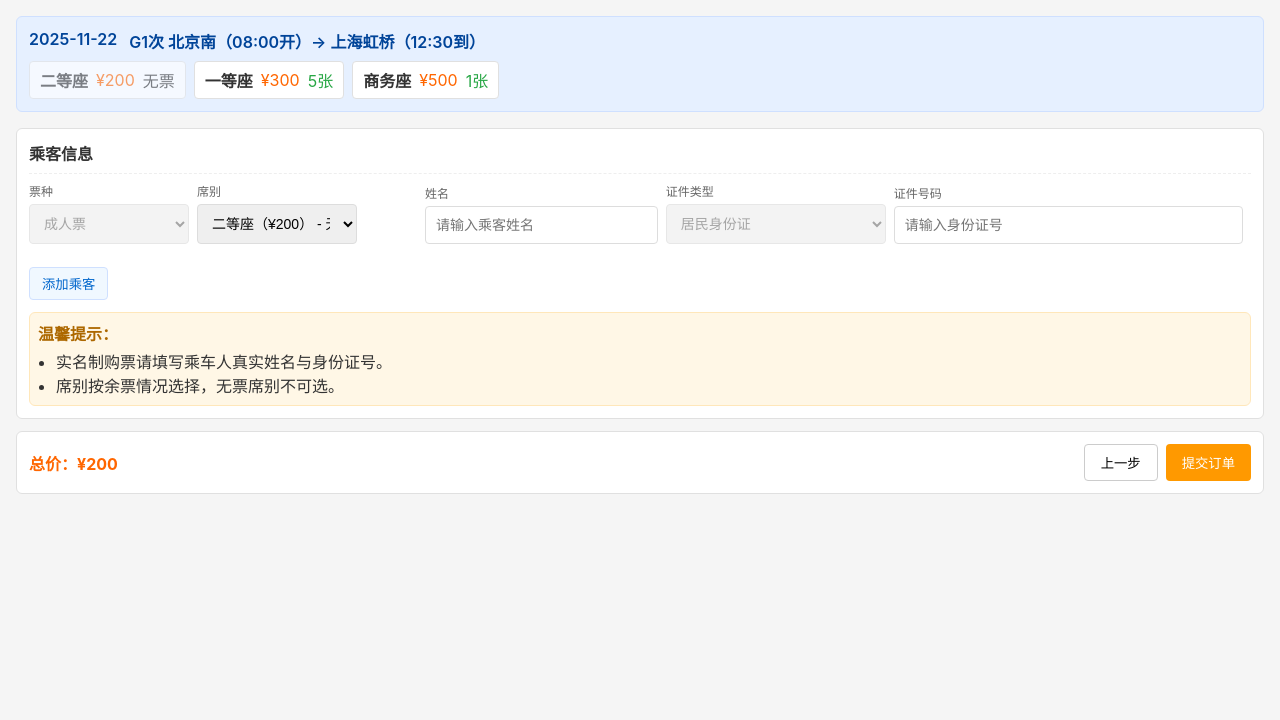
P002_Booking 组件测试 - 席别选择交互 › 切换席别后单价影响总价，余票为0的席别不可选
This screenshot has width=1280, height=720.
expect the text "总价：¥200" is shown: met, box [29, 450, 118, 474]
Select "一等座（¥300）" in the 2nd dropdown at point(277, 224), box [197, 204, 357, 244]
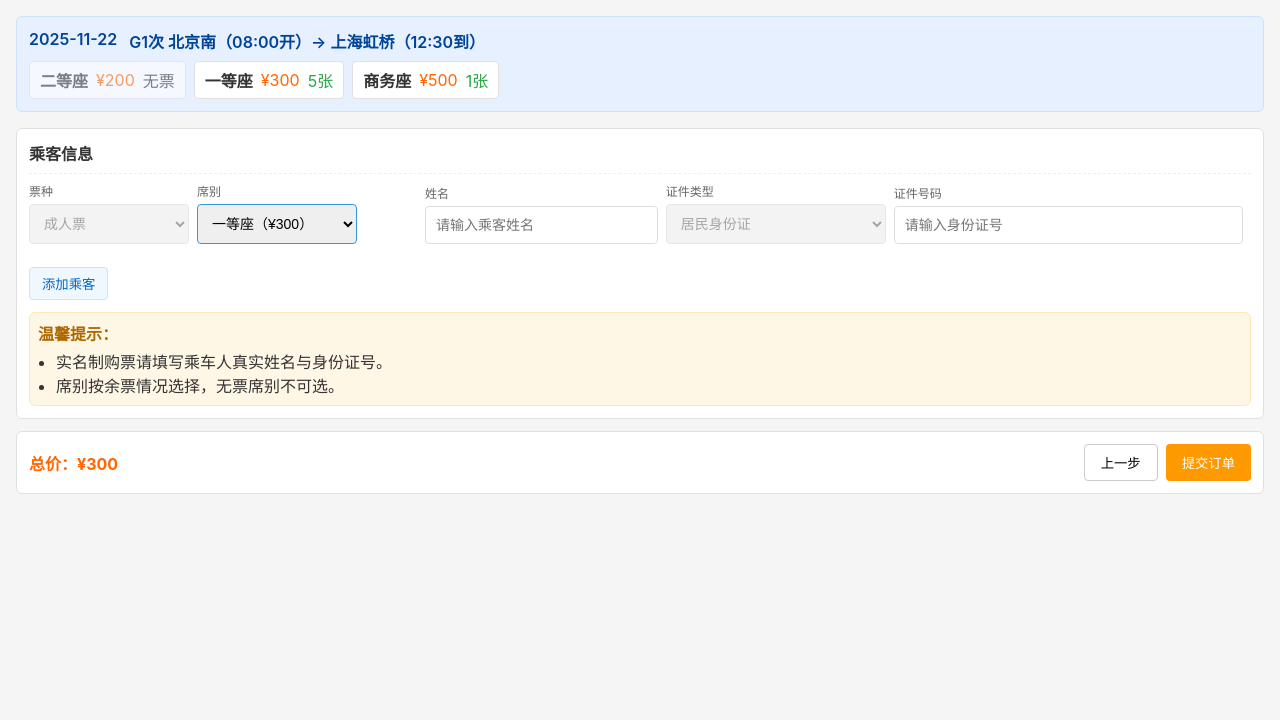
expect the text "总价：¥300" is shown: met, box [29, 450, 118, 474]
